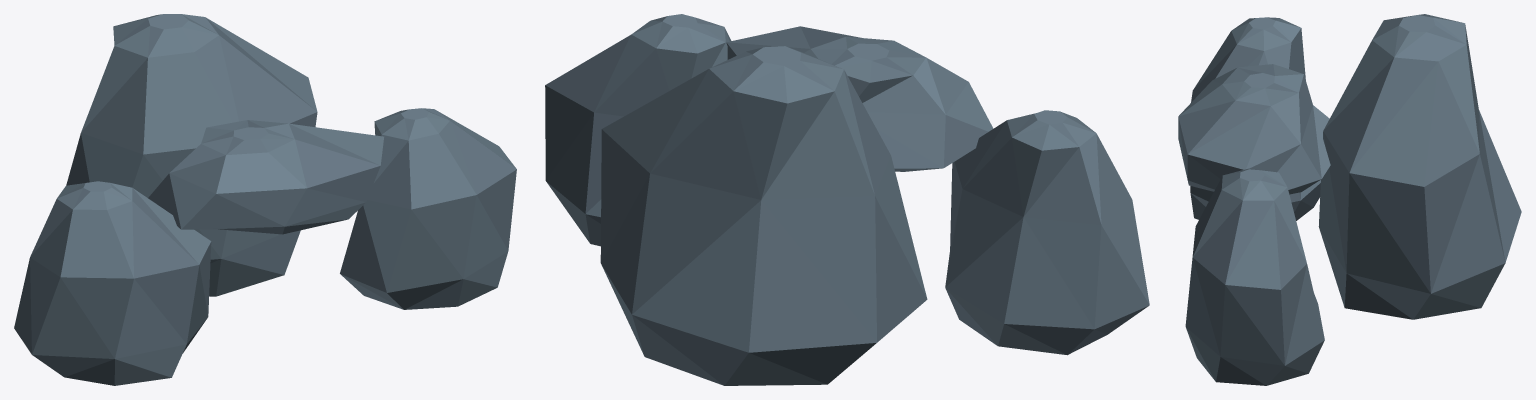
File: W16_Rock_Cave_Mouth.fbx
The picture shows the model from 3 angles, left to right: view 1: azimuth 30°, elevation 25°; view 2: azimuth 150°, elevation 25°; view 3: azimuth 270°, elevation 25°; orthographic projection. The views are drawn at different scales.
Parts seen in each view (by area): view 1: W16_Rock_Cave_Mouth; view 2: W16_Rock_Cave_Mouth; view 3: W16_Rock_Cave_Mouth.
Boxes of the visible parts, x1,y1,x2,y2 form: W16_Rock_Cave_Mouth: [14, 14, 516, 385]; W16_Rock_Cave_Mouth: [545, 14, 1149, 385]; W16_Rock_Cave_Mouth: [1178, 14, 1521, 385].
Bounding box in the file's own units: 6.63 × 3.24 × 4.08.
1 material, 1 textured.
